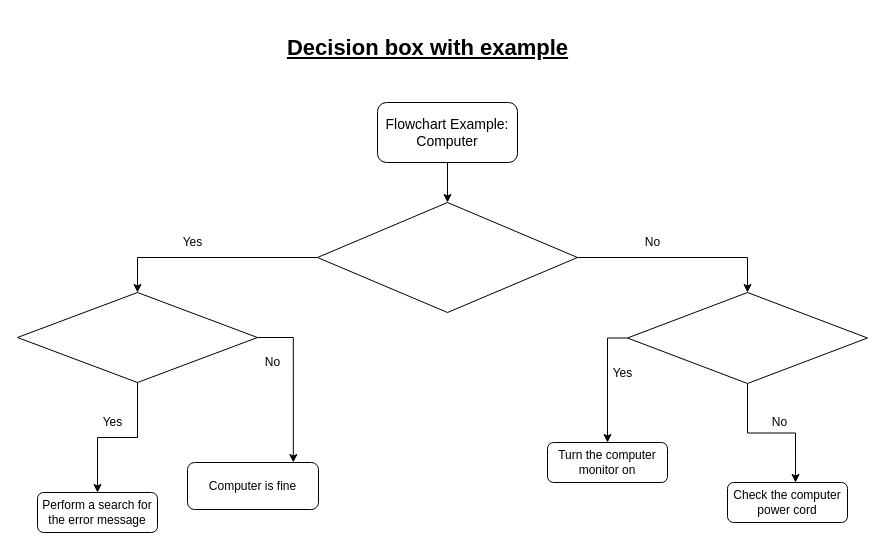
Some shapes in this 885 by 550 pixel diagram are drawn without their labels. The shapes that lost their labels are listed below. From the top down, each one's centre as x and y in pixels, then its label:
the point at 447,257: Does the Computer Turn ON
the point at 137,337: Are there any error message
the point at 747,338: Is computer power lights on
